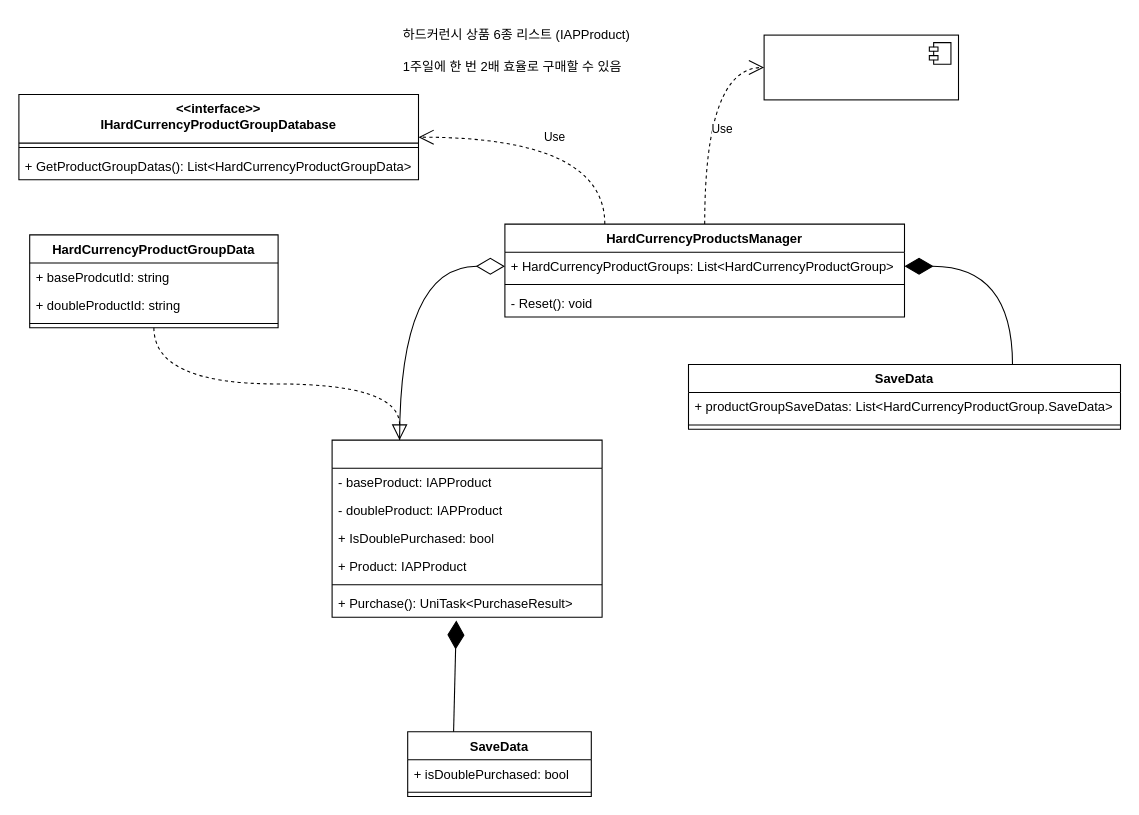
The diagram is 1139 pixels wide and 815 high, and some of its shapes have lost their labels. The shapes that lost their labels are listed below. From the top down, each one's box as (x1, y1, x2, y2) in pixels, then its label:
(763, 34, 959, 100): PeriodicResetHandler
(331, 439, 602, 617): HardCurrencyProductGroup
